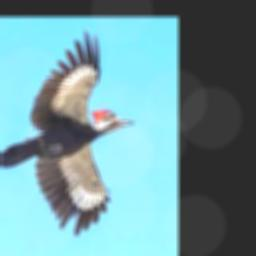Woodpecker: (0, 27, 134, 236)
